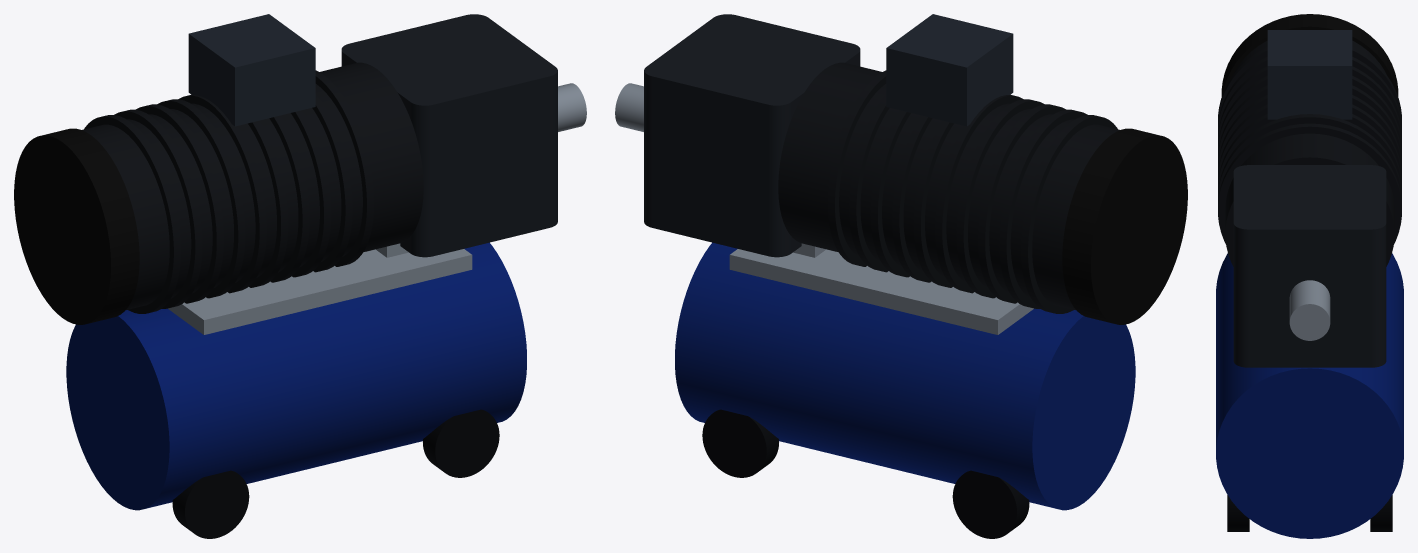
The model's file is compressor.glb.
The picture shows the model from 3 angles, left to right: view 1: azimuth 30°, elevation 25°; view 2: azimuth 150°, elevation 25°; view 3: azimuth 270°, elevation 25°; orthographic projection. The views are drawn at different scales.
Parts seen in each view (by area): view 1: motor, compressor; view 2: motor, compressor; view 3: motor, compressor.
Boxes of the visible parts, x1,y1,x2,y2 form: motor: [14, 14, 586, 324]; compressor: [66, 242, 526, 538]; motor: [615, 14, 1187, 324]; compressor: [675, 242, 1135, 538]; motor: [1218, 14, 1401, 367]; compressor: [1216, 253, 1403, 538].
Bounding box in the file's own units: 0.287 × 0.2375 × 0.0999.
